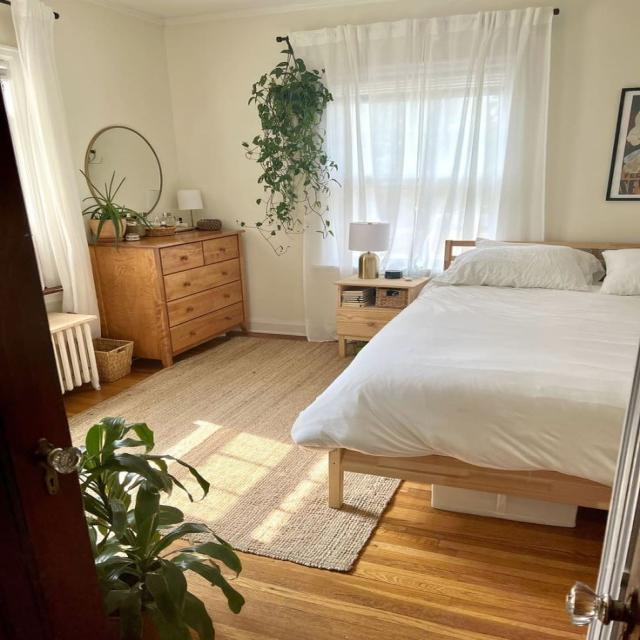obstacle: (297, 238, 640, 512), (86, 228, 249, 368), (333, 272, 432, 358)
